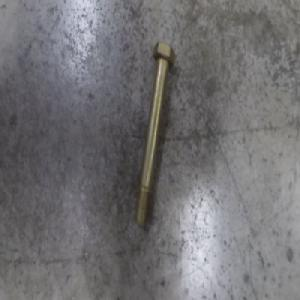Bolt: (133, 40, 176, 228)
